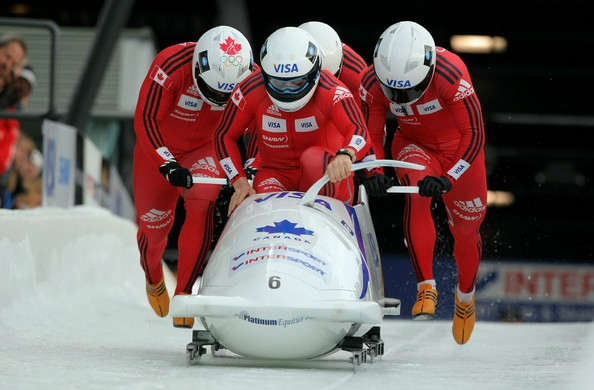Bobsleigh: (171, 192, 381, 364)
